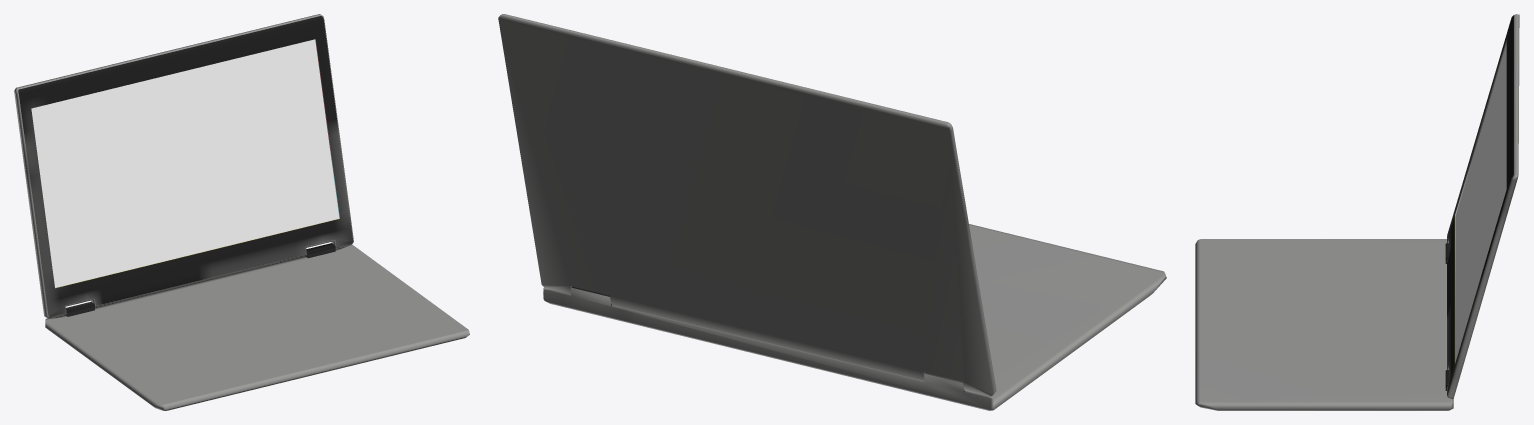
File: laptop.fbx
3 renders of one model, left to right at view 1: azimuth 30°, elevation 25°; view 2: azimuth 150°, elevation 25°; view 3: azimuth 270°, elevation 25°, orthographic. The views are drawn at different scales.
Visible parts, largest first — view 1: laptop; view 2: laptop; view 3: laptop.
Part boxes in pixels (box(x1,y1,x2,y2)): laptop: box(14, 14, 469, 410); laptop: box(498, 14, 1166, 410); laptop: box(1195, 14, 1519, 410).
Size of the model in its own units: 226 by 154 by 191.
